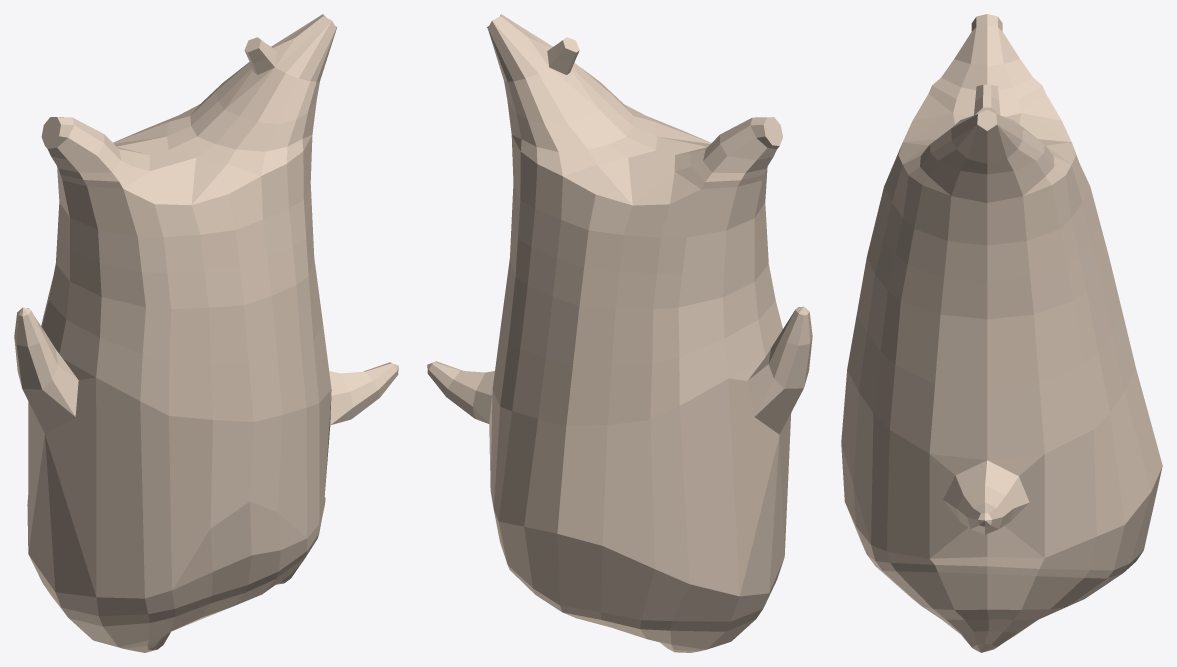
File: frame_0118.obj
3 views of the same model, side by side, from view 1: azimuth 30°, elevation 25°; view 2: azimuth 150°, elevation 25°; view 3: azimuth 270°, elevation 25° (orthographic).
Visible parts, largest first — view 1: korok; view 2: korok; view 3: korok.
Boxes of the visible parts, <box> form: korok: <box>14,14,398,652</box>; korok: <box>427,14,812,652</box>; korok: <box>841,14,1162,652</box>.
Size of the model in its own units: 1.49 by 2.2 by 1.07.
